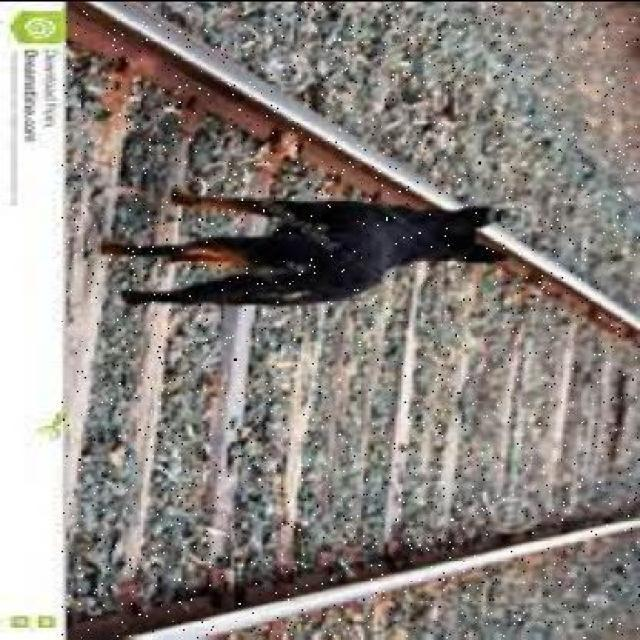danger: (99, 181, 502, 325)
rail: (62, 0, 640, 637)
